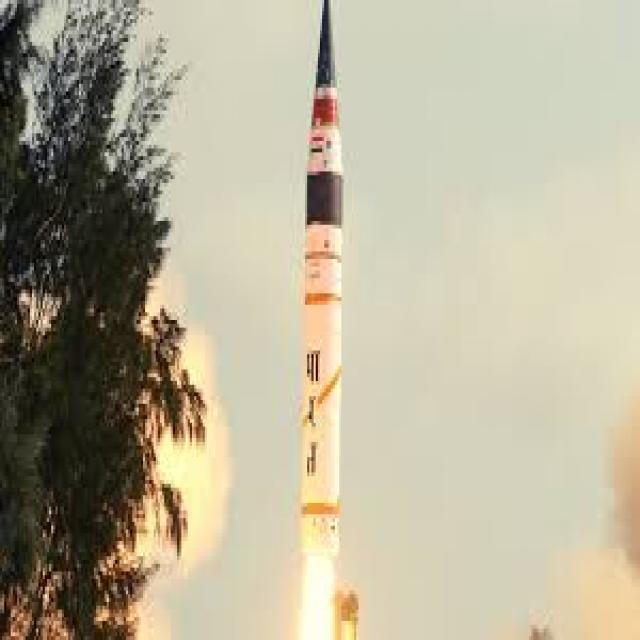missile: (299, 2, 344, 557)
